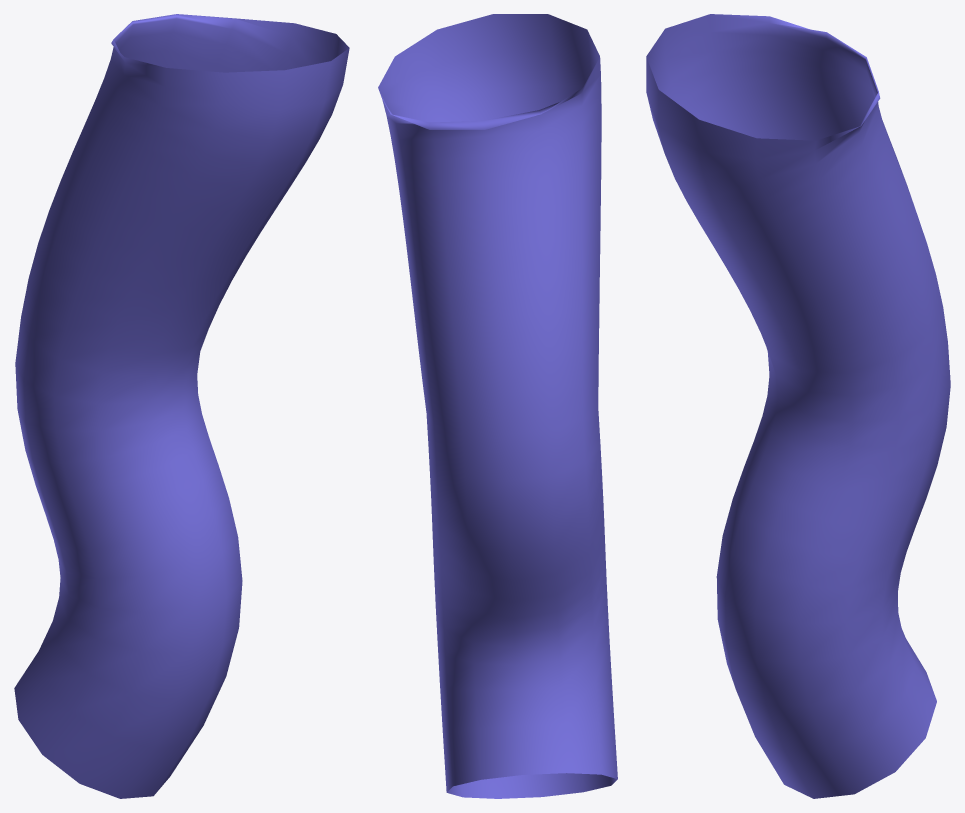
File: Common_iliac_vein.r_BezierCurve.411.glb
3 renders of one model, left to right at view 1: azimuth 30°, elevation 25°; view 2: azimuth 150°, elevation 25°; view 3: azimuth 270°, elevation 25°, orthographic. The views are drawn at different scales.
Visible parts, largest first — view 1: Common_iliac_vein.r_BezierCurve.411; view 2: Common_iliac_vein.r_BezierCurve.411; view 3: Common_iliac_vein.r_BezierCurve.411.
Boxes of the visible parts, x1,y1,x2,y2 form: Common_iliac_vein.r_BezierCurve.411: (14, 14, 349, 798); Common_iliac_vein.r_BezierCurve.411: (378, 14, 617, 798); Common_iliac_vein.r_BezierCurve.411: (646, 14, 950, 798).
Size of the model in its own units: 0.022 by 0.06 by 0.0218.
